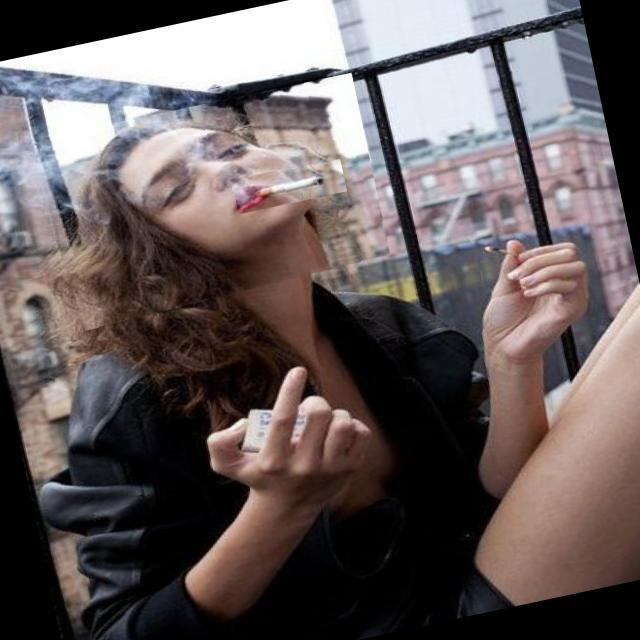cigarette: (230, 155, 346, 214)
